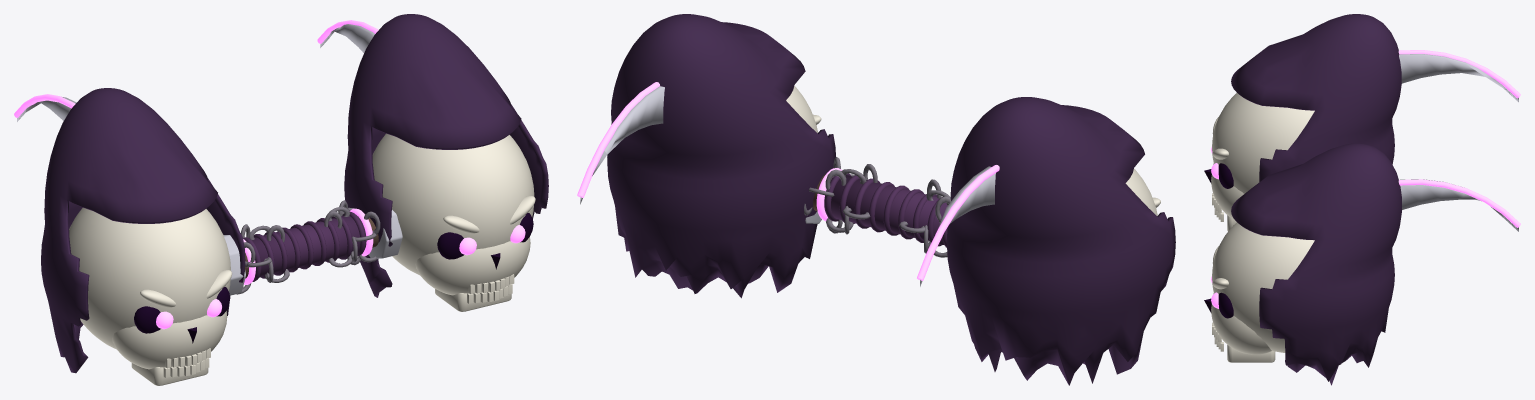
Rendered from dm_reaper100t.glb.
3 renders of one model, left to right at view 1: azimuth 30°, elevation 25°; view 2: azimuth 150°, elevation 25°; view 3: azimuth 270°, elevation 25°, orthographic. The views are drawn at different scales.
Visible parts, largest first — view 1: Reaper100t_Hood, Reaper100t_Hood.001, Reaper100t_Cranium, Reaper100t_Cranium.001, Reaper100t_Face, Reaper100t_Face.001, Reaper100t_Grip, Reaper100t_Collar.001, Reaper100t_Jaw, Reaper100t_Jaw.001, Reaper100t_Collar, Reaper100t_ScytheBlade.001 (+3 smaller); view 2: Reaper100t_Hood, Reaper100t_Hood.001, Reaper100t_Grip, Reaper100t_ScytheBlade.001, Reaper100t_ScytheBlade, Reaper100t_BladeEdge, Reaper100t_BladeEdge.001, Reaper100t_Cranium.001, Reaper100t_Cranium; view 3: Reaper100t_Hood.001, Reaper100t_Hood, Reaper100t_Cranium.001, Reaper100t_Cranium, Reaper100t_ScytheBlade, Reaper100t_Face.001, Reaper100t_ScytheBlade.001, Reaper100t_BladeEdge.001, Reaper100t_BladeEdge, Reaper100t_Face, Reaper100t_Jaw.001, Reaper100t_Socket.003 (+1 smaller).
Boxes of the visible parts, box(x1,y1,x2,y2) form: Reaper100t_Hood: box(41, 88, 245, 373); Reaper100t_Hood.001: box(344, 14, 548, 297); Reaper100t_Cranium: box(69, 207, 230, 349); Reaper100t_Cranium.001: box(372, 133, 534, 275); Reaper100t_Face: box(112, 311, 227, 369); Reaper100t_Face.001: box(415, 237, 530, 295); Reaper100t_Grip: box(252, 215, 366, 277); Reaper100t_Collar.001: box(368, 210, 402, 258); Reaper100t_Jaw: box(131, 363, 208, 385); Reaper100t_Jaw.001: box(435, 289, 511, 311); Reaper100t_Collar: box(223, 235, 245, 295); Reaper100t_ScytheBlade.001: box(320, 24, 374, 52); Reaper100t_Hood: box(946, 97, 1175, 385); Reaper100t_Hood.001: box(607, 14, 835, 298); Reaper100t_Grip: box(824, 175, 947, 244); Reaper100t_ScytheBlade.001: box(580, 86, 664, 204); Reaper100t_ScytheBlade: box(920, 166, 995, 286); Reaper100t_BladeEdge: box(917, 165, 999, 280); Reaper100t_BladeEdge.001: box(577, 82, 659, 197); Reaper100t_Cranium.001: box(786, 86, 817, 133); Reaper100t_Cranium: box(1125, 168, 1157, 215); Reaper100t_Hood.001: box(1231, 143, 1401, 385); Reaper100t_Hood: box(1231, 14, 1401, 181); Reaper100t_Cranium.001: box(1212, 222, 1314, 352); Reaper100t_Cranium: box(1212, 93, 1314, 193); Reaper100t_ScytheBlade: box(1399, 54, 1518, 102); Reaper100t_Face.001: box(1211, 293, 1271, 354); Reaper100t_ScytheBlade.001: box(1400, 179, 1518, 231); Reaper100t_BladeEdge.001: box(1398, 179, 1520, 227); Reaper100t_BladeEdge: box(1398, 50, 1520, 98); Reaper100t_Face: box(1211, 163, 1243, 219); Reaper100t_Jaw.001: box(1227, 345, 1275, 362); Reaper100t_Socket.003: box(1218, 292, 1233, 318).
Bounding box in the file's own units: 6.48 × 3.22 × 4.26.
